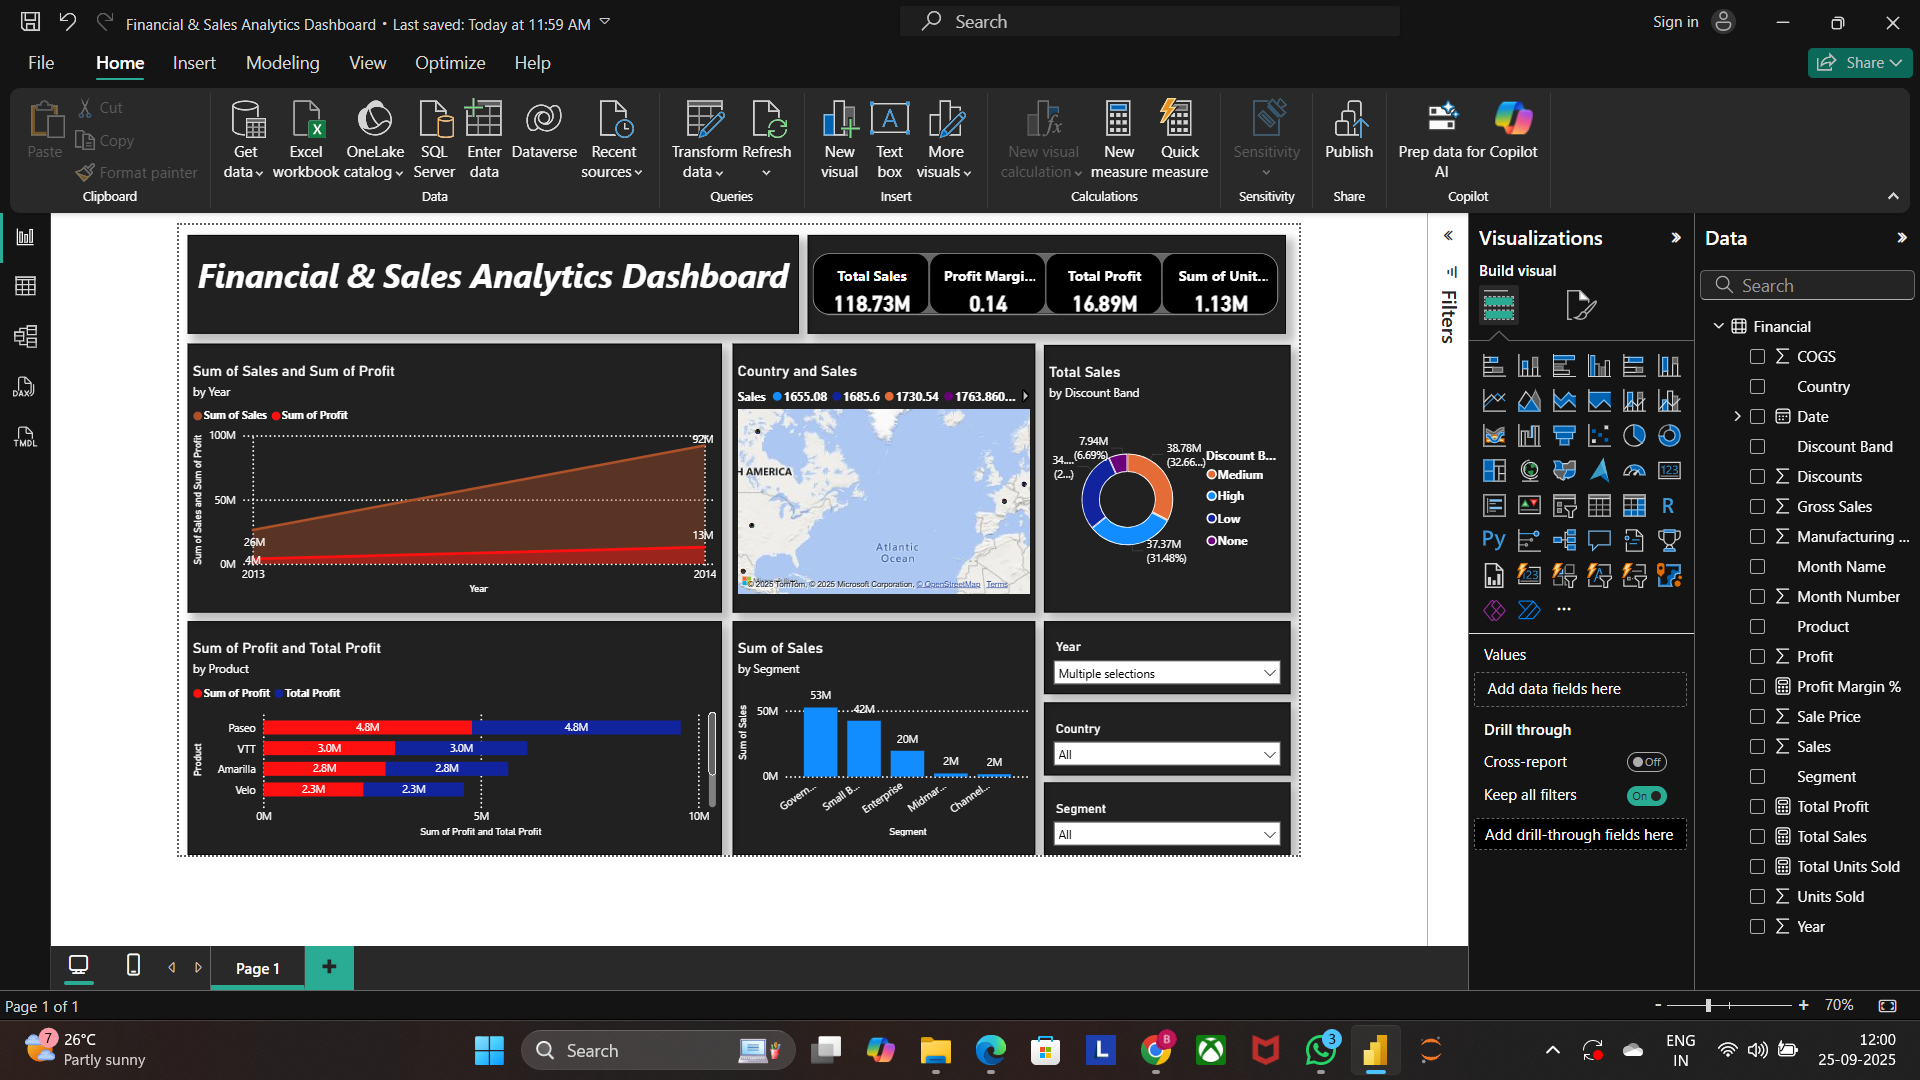

The page's visual inventory and layout, read from the dashboard file:
{"tool":"powerbi","page":{"name":"Page 1","canvas":[1280,720],"ordinal":0},"visuals":[{"type":"textbox","box":[9.6,11,698.5,112.5],"z":0},{"type":"cardVisual","fields":{"Data":["Financial.Total Sales","Financial.Profit Margin %","Financial.Total Profit","Sum(Financial.Units Sold)"]},"box":[719,11,546.1,112.5],"z":1000},{"type":"areaChart","fields":{"Category":["Financial.Date.Variation.Date Hierarchy.Year","Financial.Date.Variation.Date Hierarchy.Quarter","Financial.Date.Variation.Date Hierarchy.Month","Financial.Date.Variation.Date Hierarchy.Day"],"Y":["Sum(Financial.Sales)","Sum(Financial.Profit)"]},"box":[10,135.7,610,307.1],"z":2000},{"type":"map","fields":{"Category":["Financial.Country"],"Series":["Financial.Sales"]},"box":[632.9,135.7,345.7,307.1],"z":3000},{"type":"barChart","fields":{"Category":["Financial.Product"],"Y":["Sum(Financial.Profit)","Financial.Total Profit"]},"box":[10,452.9,610,267.1],"z":4000},{"type":"columnChart","fields":{"Category":["Financial.Segment"],"Y":["Sum(Financial.Sales)"]},"box":[632.9,452.9,345.7,267.1],"z":5000},{"type":"donutChart","fields":{"Category":["Financial.Discount Band"],"Y":["Financial.Total Sales"]},"box":[988.6,137.1,281.4,305.7],"z":6000},{"type":"slicer","fields":{"Values":["Financial.Year"]},"box":[988.6,452.9,281.4,82.9],"z":7000},{"type":"slicer","fields":{"Values":["Financial.Segment"]},"box":[988.6,636.9,281.4,82.9],"z":9000},{"type":"slicer","fields":{"Values":["Financial.Country"]},"box":[988.6,545.7,281.4,82.9],"z":9001}]}

Visuals, with their boxes on the page's 1280x720 design canvas (x1, y1, x2, y2). These are canvas units, not pixel positions in the 1920x1080 screenshot, which may show the page scaled, cropped or inside an application window:
textbox: select_region(10, 11, 708, 124)
cardVisual - Financial.Total Sales x Financial.Profit Margin %: select_region(719, 11, 1265, 124)
areaChart - Financial.Date.Variation.Date Hierarchy.Year x Financial.Date.Variation.Date Hierarchy.Quarter: select_region(10, 136, 620, 443)
map - Financial.Country x Financial.Sales: select_region(633, 136, 979, 443)
barChart - Financial.Product x Sum(Financial.Profit): select_region(10, 453, 620, 720)
columnChart - Financial.Segment x Sum(Financial.Sales): select_region(633, 453, 979, 720)
donutChart - Financial.Discount Band x Financial.Total Sales: select_region(989, 137, 1270, 443)
slicer - Financial.Year: select_region(989, 453, 1270, 536)
slicer - Financial.Segment: select_region(989, 637, 1270, 720)
slicer - Financial.Country: select_region(989, 546, 1270, 629)
